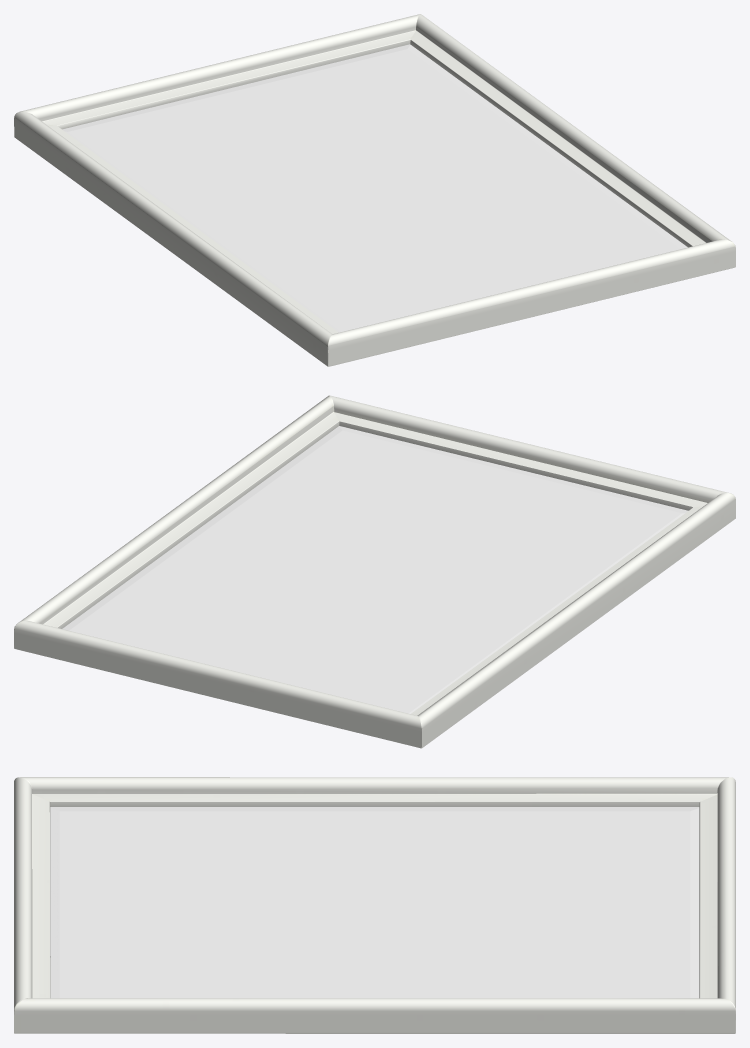
The picture shows the model from 3 angles, top to bottom: view 1: azimuth 30°, elevation 25°; view 2: azimuth 150°, elevation 25°; view 3: azimuth 270°, elevation 25°; orthographic projection. The views are drawn at different scales.
Parts seen in each view (by area): view 1: ASY_ART_10610091_S01_NV01; view 2: ASY_ART_10610091_S01_NV01; view 3: ASY_ART_10610091_S01_NV01.
Boxes of the visible parts, box(x1,y1,x2,y2) form: ASY_ART_10610091_S01_NV01: box(14, 14, 735, 366); ASY_ART_10610091_S01_NV01: box(14, 395, 735, 748); ASY_ART_10610091_S01_NV01: box(14, 777, 735, 1033).
Size of the model in its own units: 0.6 by 0.0381 by 0.8.
Materials: 2 (2 with a texture image).
